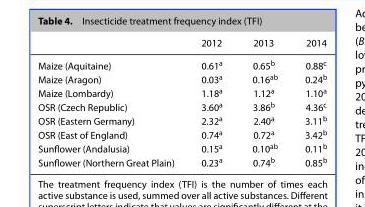table: (37, 36, 326, 167)
table column: (37, 36, 187, 167), (236, 36, 290, 167), (187, 36, 236, 167), (290, 36, 326, 167)
table column header: (37, 36, 326, 53)
table row: (37, 53, 326, 71), (37, 36, 326, 53), (37, 71, 326, 85), (37, 85, 326, 99), (37, 99, 326, 113), (37, 126, 326, 140), (37, 140, 326, 154), (37, 113, 326, 126), (37, 154, 326, 167)
